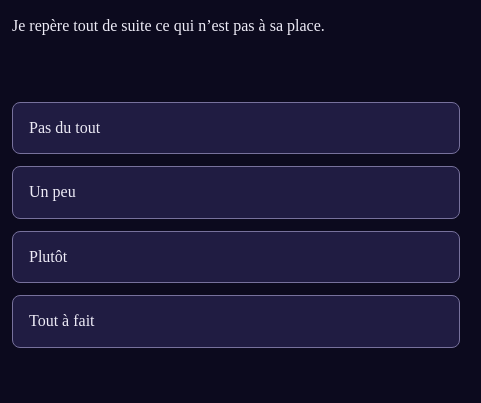
Test case: [5.5/AC1] deux clics ne font pas deux envois › un enregistrement qui échoue se DIT, et ne perd rien à l’écran
What coordinates should you click on to do the following:
click the button "Pas du tout"
I would click on:
 (65, 128)
Its box is [12,102,460,154].
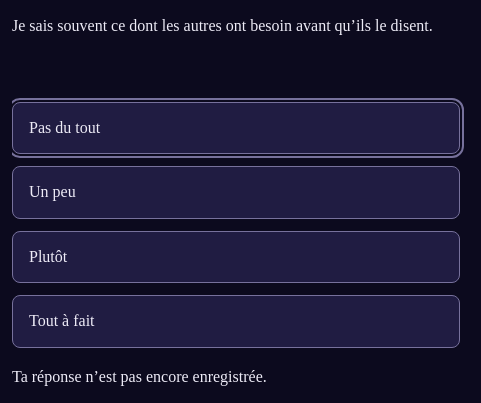
Check: the text "Je sais souvent ce dont les autres ont besoin avant qu’ils le disent." is shown, box [12,17,433,34]
